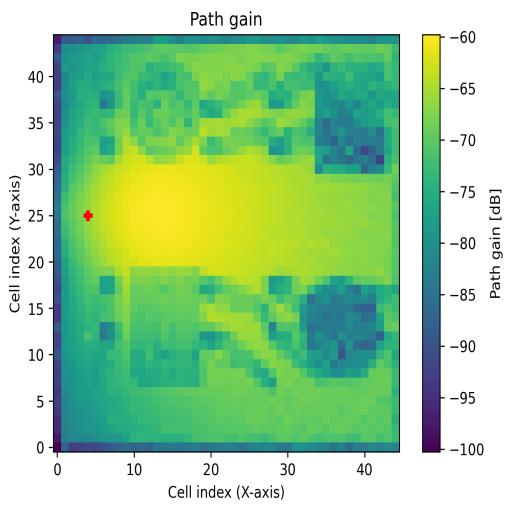Concrete: (315, 56, 392, 174)
Glass: (130, 53, 199, 163)
Metal: (300, 276, 384, 378)
Wood: (130, 266, 200, 388)
